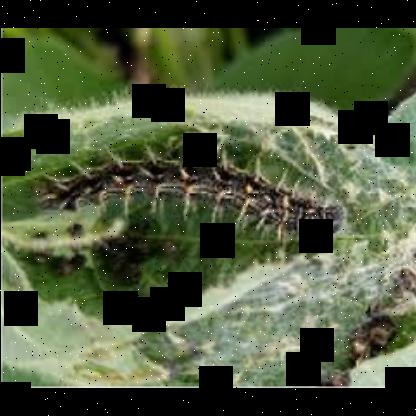oruga: (37, 143, 352, 239)
